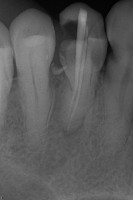Furcation Involvement: (62, 119, 85, 138)
